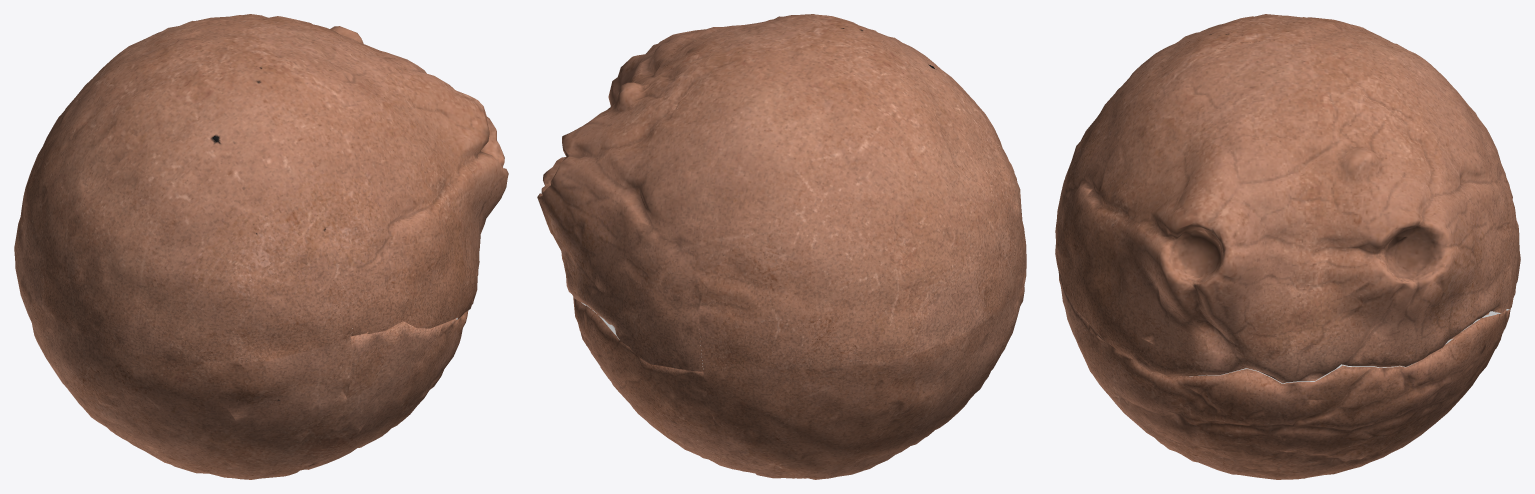
The model's file is Planete.fbx.
The picture shows the model from 3 angles, left to right: view 1: azimuth 30°, elevation 25°; view 2: azimuth 150°, elevation 25°; view 3: azimuth 270°, elevation 25°; orthographic projection.
Parts seen in each view (by area): view 1: Planete_part2, Planete_part1, Planete_part3; view 2: Planete_part2, Planete_part1, Planete_part3; view 3: Planete_part1, Planete_part3, Planete_part2.
Boxes of the visible parts, x1,y1,x2,y2 form: Planete_part2: [14, 20, 352, 479]; Planete_part1: [196, 14, 508, 336]; Planete_part3: [304, 311, 468, 469]; Planete_part2: [699, 19, 1026, 479]; Planete_part1: [537, 14, 850, 371]; Planete_part3: [573, 297, 754, 473]; Planete_part1: [1055, 40, 1520, 383]; Planete_part3: [1057, 267, 1515, 479]; Planete_part2: [1057, 14, 1516, 218].
Bounding box in the file's own units: 210 × 202 × 203.
